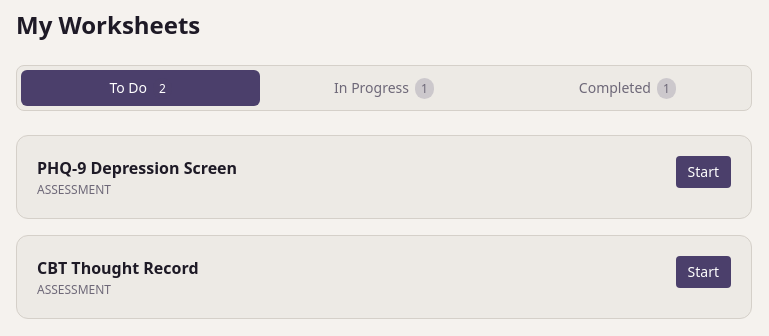
Test: Client dashboard — assigned worksheets › clicking "Completed" tab shows completed assignments
Step 1. Click the tab "Completed1" → click(627, 88), box [508,70,747,106]
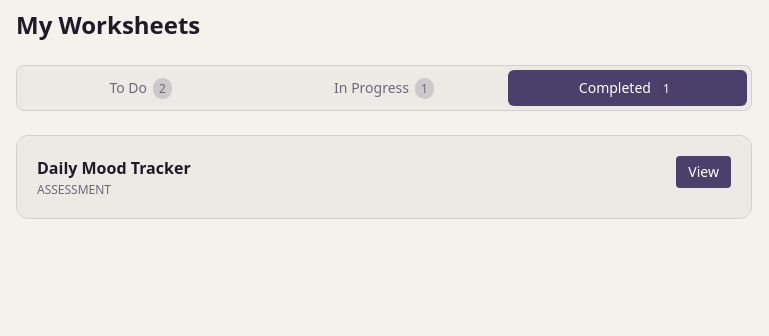
Now the heading "Daily Mood Tracker" is shown, box [37,157,191,179]
